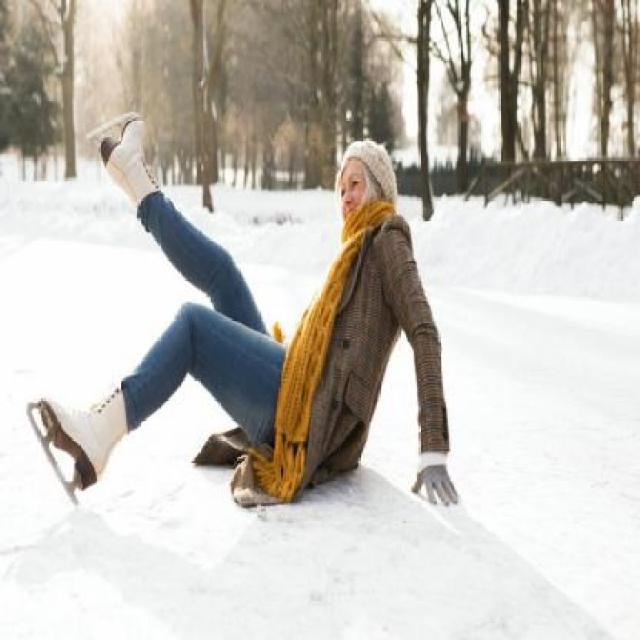fall: (25, 80, 461, 511)
